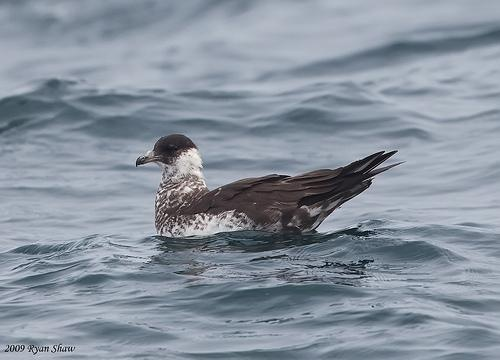bird: (128, 133, 395, 248)
